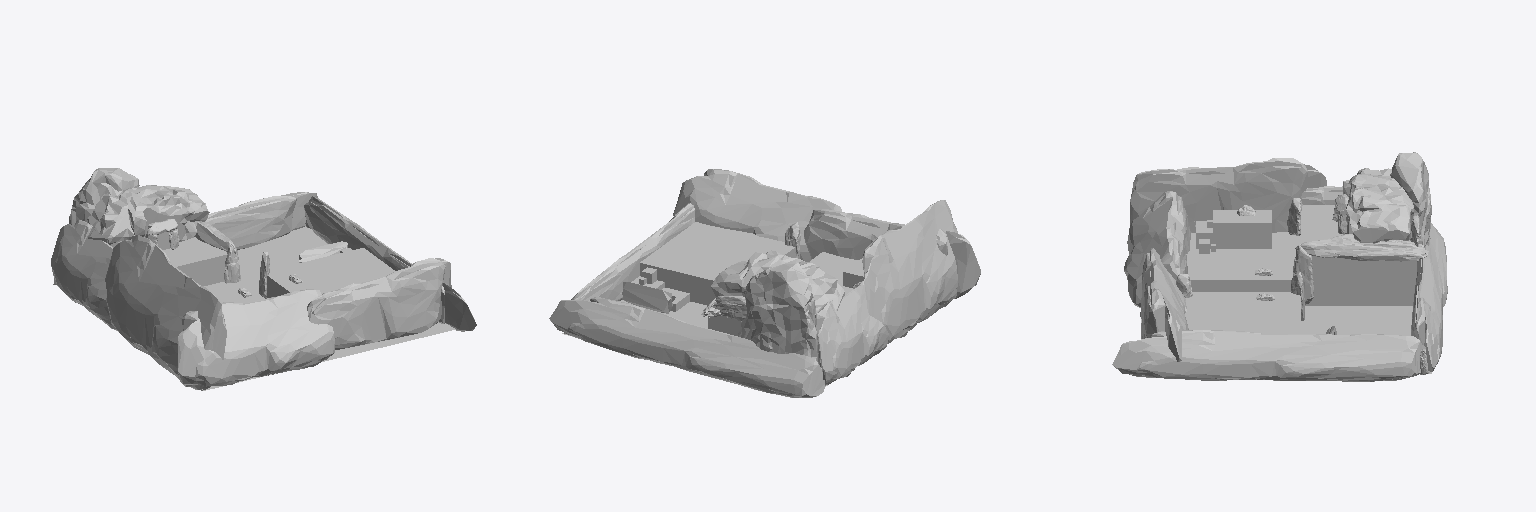
File: mountain2.obj
3 renders of one model, left to right at view 1: azimuth 30°, elevation 25°; view 2: azimuth 150°, elevation 25°; view 3: azimuth 270°, elevation 25°, orthographic.
Parts seen in each view (by area): view 1: Ground_Plane, Rock_9; view 2: Ground_Plane, Rock_9; view 3: Ground_Plane, Rock_9.
Boxes of the visible parts, x1,y1,x2,y2 form: Ground_Plane: [51, 168, 476, 390]; Rock_9: [86, 185, 209, 247]; Ground_Plane: [549, 169, 980, 397]; Rock_9: [711, 250, 844, 312]; Ground_Plane: [1112, 152, 1447, 381]; Rock_9: [1343, 168, 1413, 243].
Size of the model in its own units: 116 by 45.03 by 115.